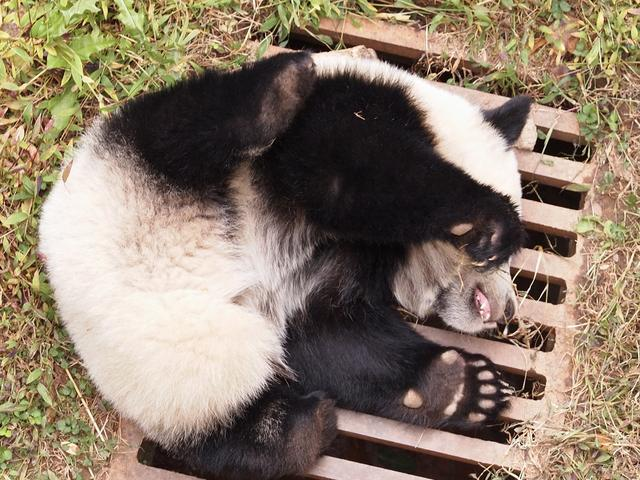panda: (17, 30, 573, 437)
